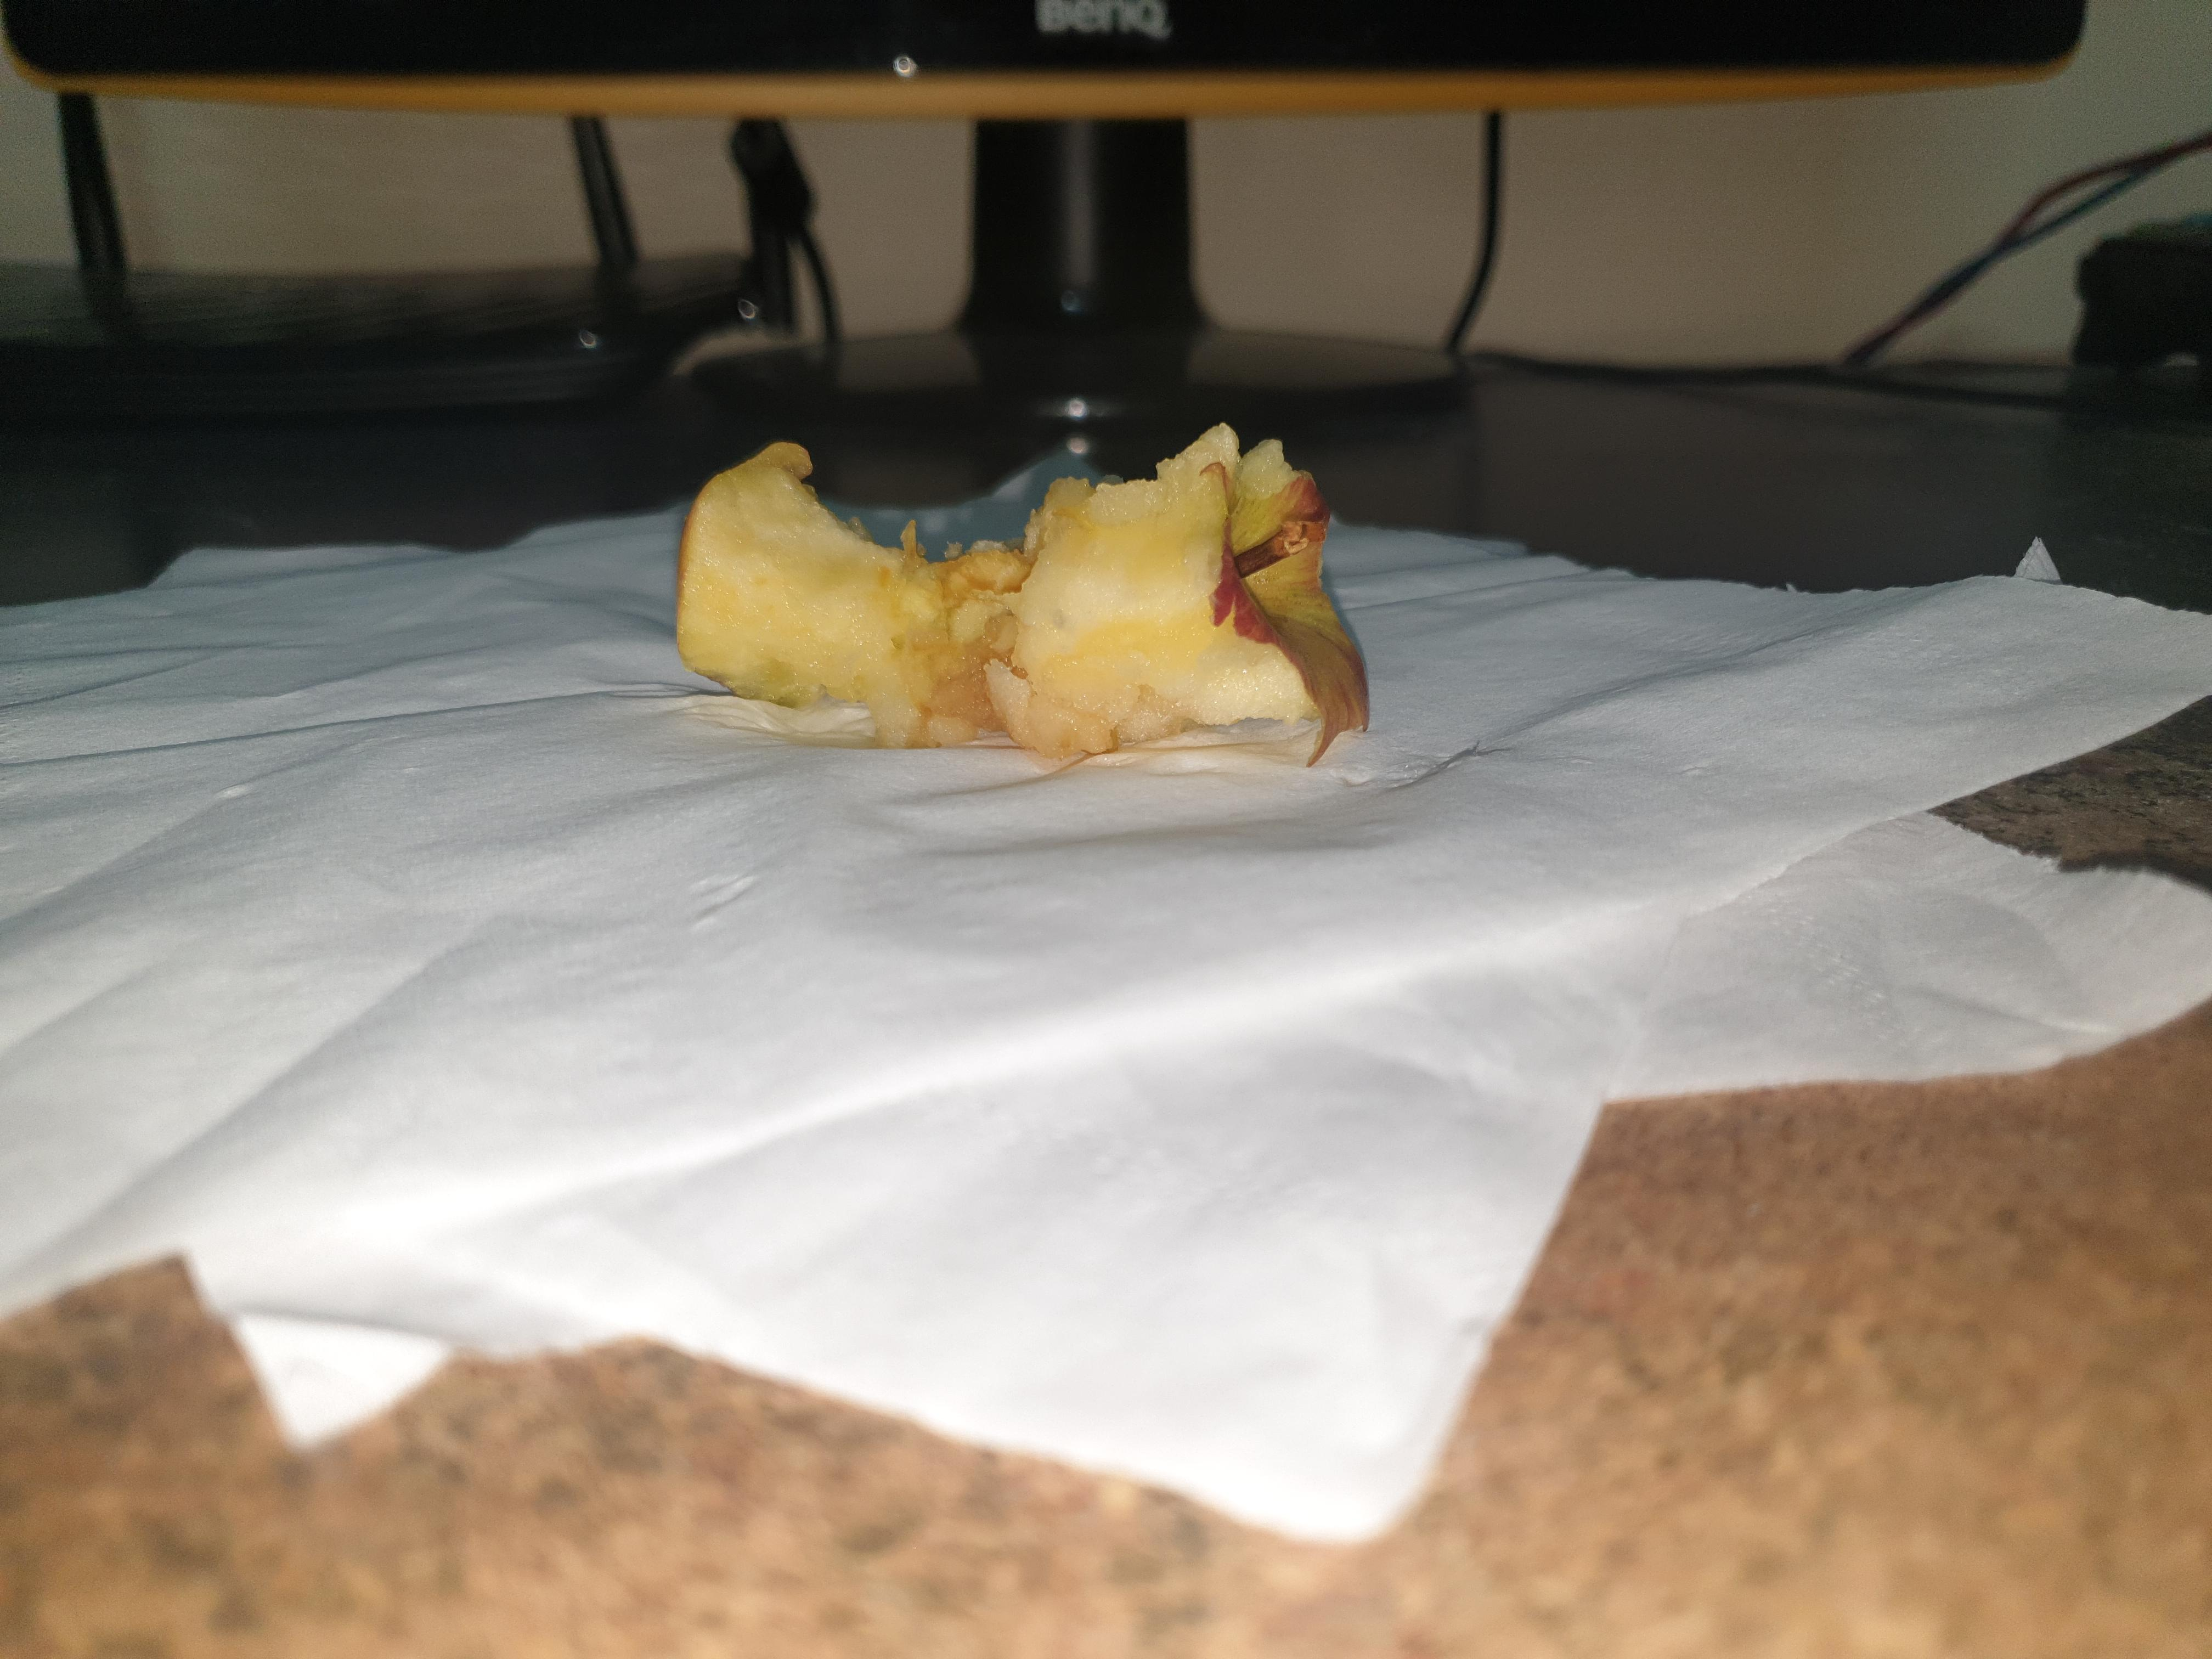Apple: (613, 376, 1397, 802)
